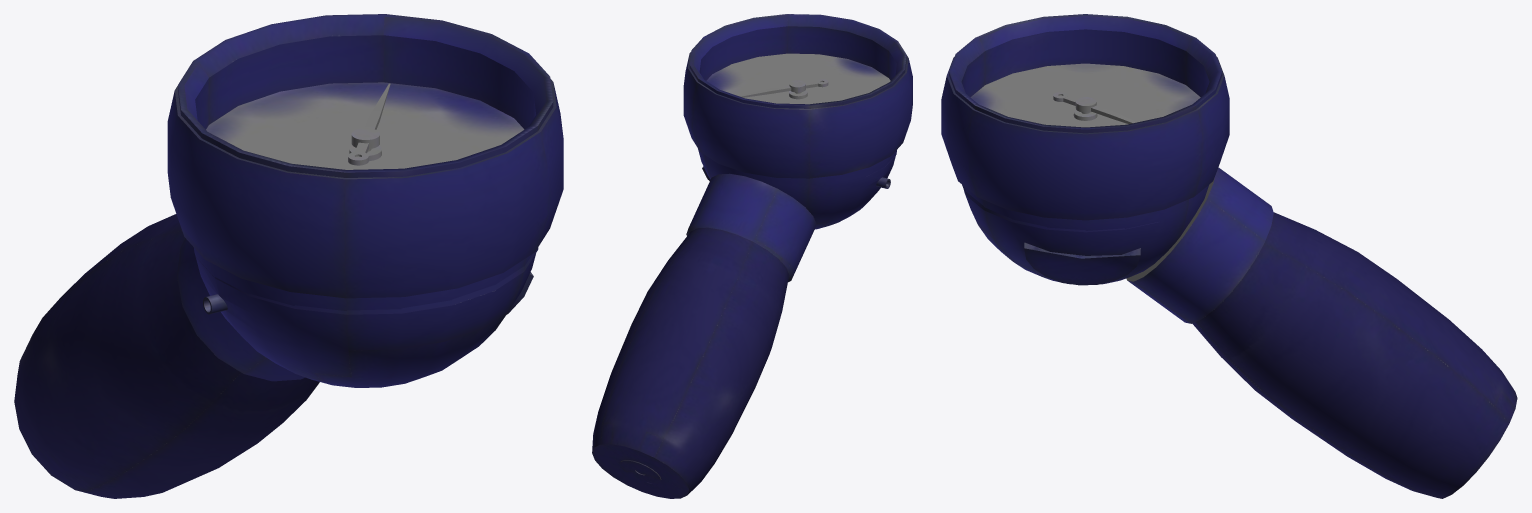
File: manometer.fbx
3 renders of one model, left to right at view 1: azimuth 30°, elevation 25°; view 2: azimuth 150°, elevation 25°; view 3: azimuth 270°, elevation 25°, orthographic. The views are drawn at different scales.
Visible parts, largest first — view 1: pCylinder4; view 2: pCylinder4; view 3: pCylinder4.
Boxes of the visible parts, x1,y1,x2,y2 form: pCylinder4: (14, 14, 563, 498); pCylinder4: (592, 14, 912, 498); pCylinder4: (941, 14, 1517, 498).
Size of the model in its own units: 4.95 by 7.93 by 9.88.
1 material, 1 textured.
